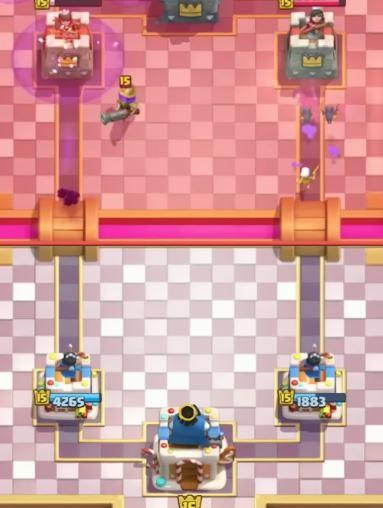EMusk: (101, 75, 139, 124)
EnemyPrincessTower: (38, 7, 93, 79), (285, 7, 337, 79)
OBat: (300, 105, 319, 132), (323, 104, 338, 123)
OLarry: (293, 163, 319, 199)
OwnKingTower: (143, 404, 234, 492)
OwnPrincessTower: (34, 344, 100, 422), (280, 351, 345, 420)
